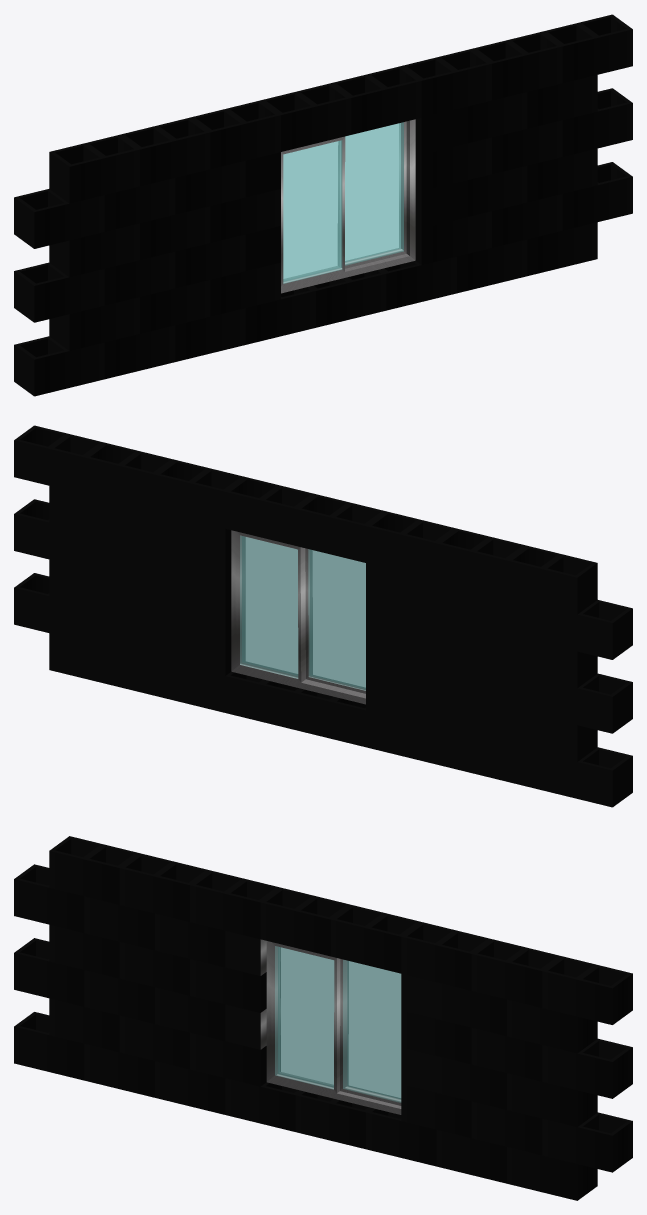
The model's file is pared_ventana.FBX.
3 views of the same model, one above another, from view 1: azimuth 30°, elevation 25°; view 2: azimuth 150°, elevation 25°; view 3: azimuth 330°, elevation 25° (orthographic).
Parts seen in each view (by area): view 1: Wall; view 2: Wall; view 3: Wall.
Part boxes in pixels (x1,y1,x2,y2): Wall: (14, 14, 632, 396); Wall: (14, 425, 632, 807); Wall: (14, 836, 632, 1200).
Bounding box in the file's own units: 425 × 150 × 25.11.
